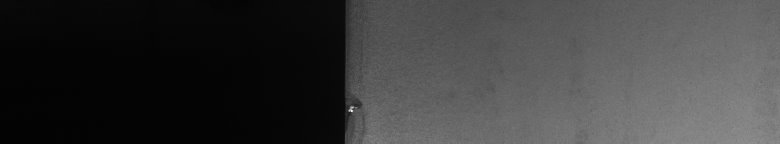hb: (356, 92, 372, 136)
